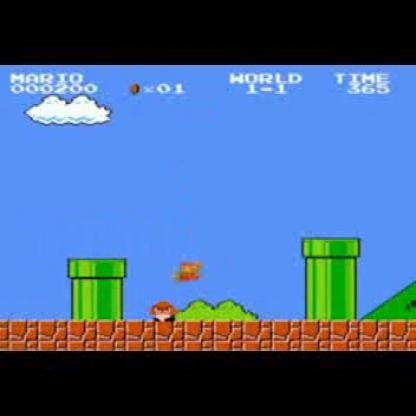Goomba: (148, 296, 178, 324)
